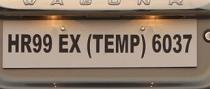0: (161, 31, 172, 53)
3: (172, 32, 182, 54)
6: (151, 32, 161, 52)
7: (181, 33, 193, 53)
9: (41, 32, 52, 52), (31, 32, 41, 52)
E: (102, 32, 114, 52), (57, 32, 68, 52)
H: (6, 32, 19, 52)
M: (114, 33, 128, 53)
P: (128, 33, 139, 53)
R: (19, 32, 31, 52)
T: (91, 32, 102, 53)
X: (68, 32, 81, 53)
